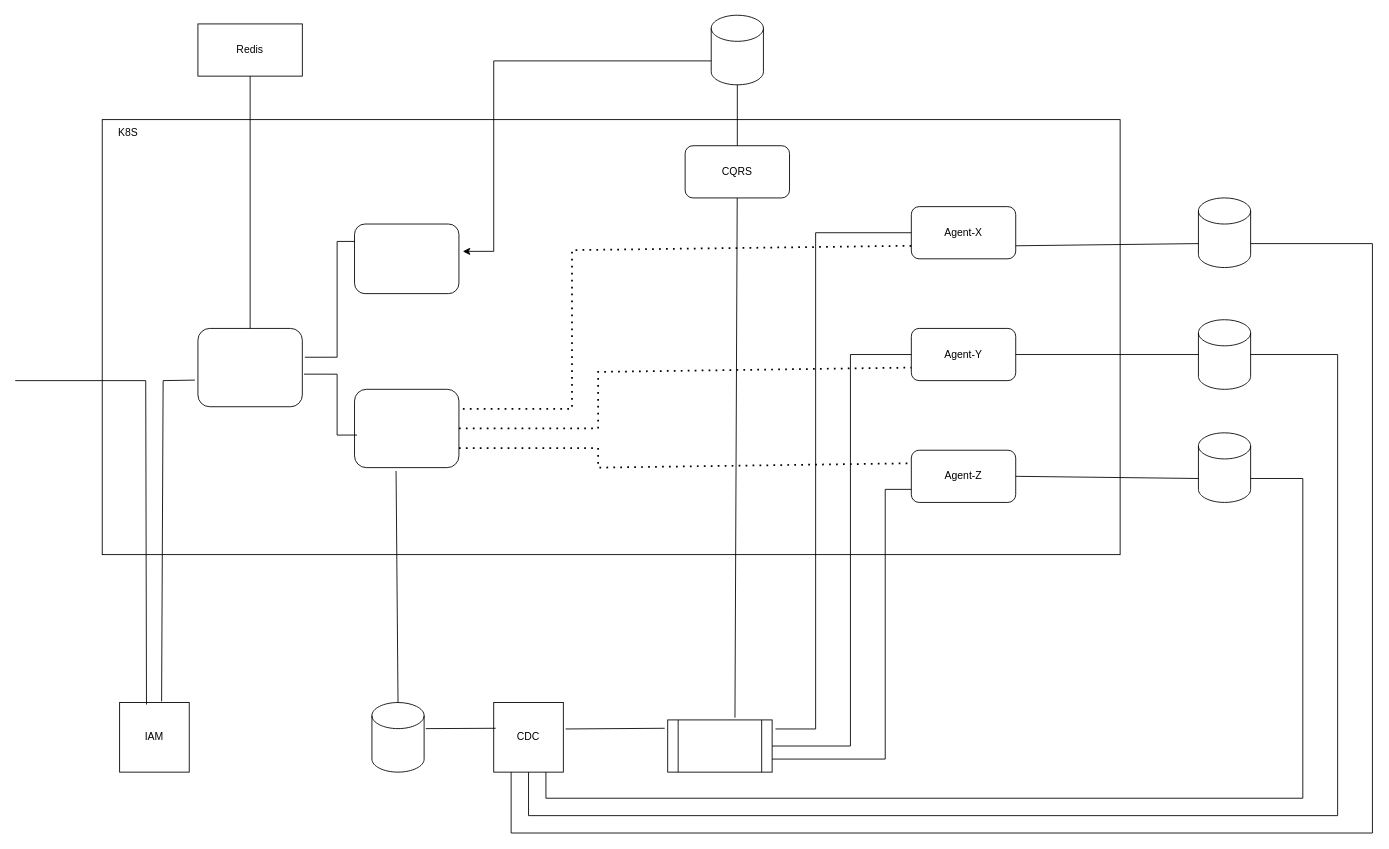
Image size: 1389x849. Some labels were removed from this diagram. The shapes that lost their labels are listed below. From the top down, each one's box as (x1, y1, x2, y2) in pixels, then its label:
(354, 223, 459, 294): Report
(197, 328, 302, 407): API GateWay
(354, 388, 459, 468): Distributor
(667, 719, 772, 772): KAFK
